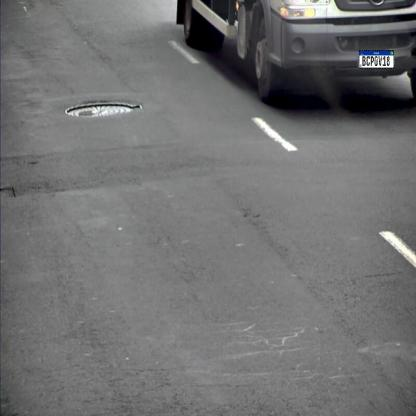PlacaM: (359, 50, 394, 69)
